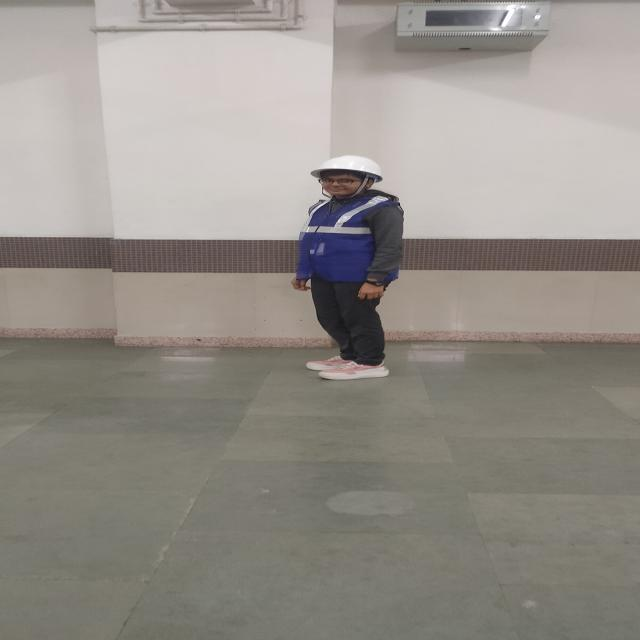safe: (291, 156, 404, 379)
